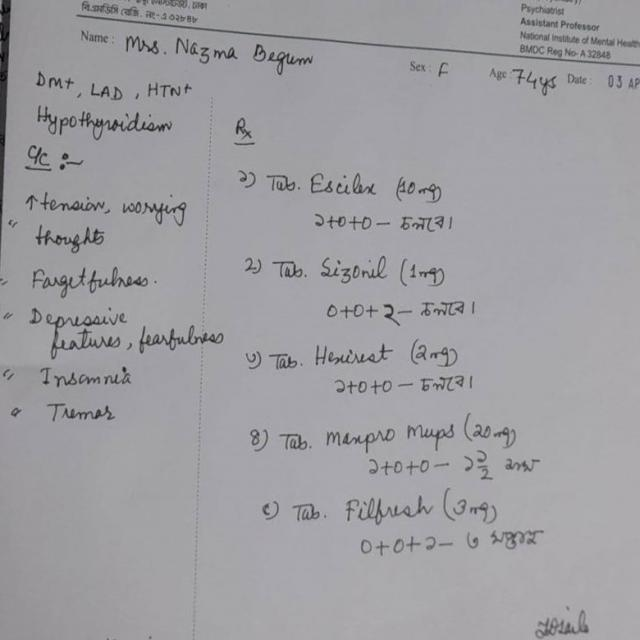Escilex: (299, 161, 382, 207)
Filfresh: (342, 487, 438, 528)
Hexirest: (310, 338, 395, 376)
Maxpro Mups: (322, 416, 461, 452)
Sizonil: (312, 248, 392, 290)
